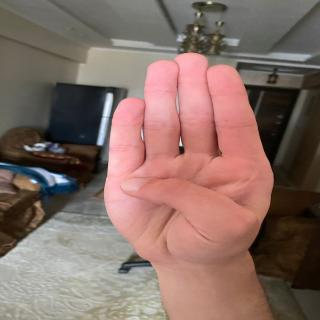KAAF: (93, 50, 284, 259)
